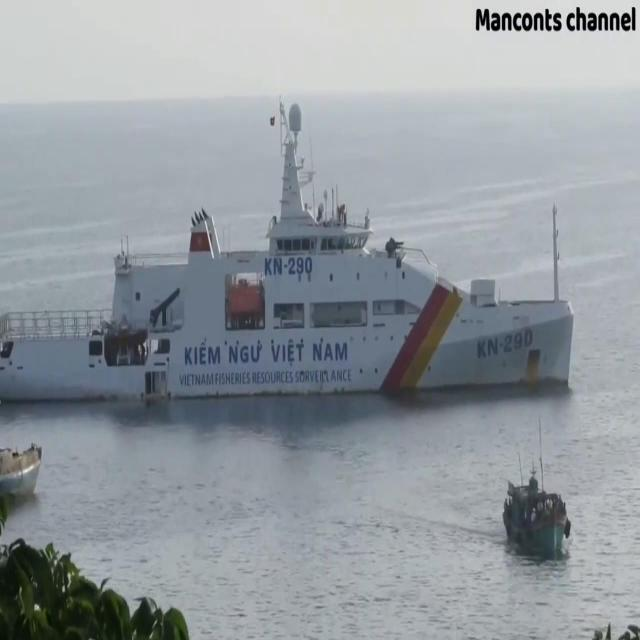Ship: (4, 103, 575, 401), (502, 458, 571, 563)
